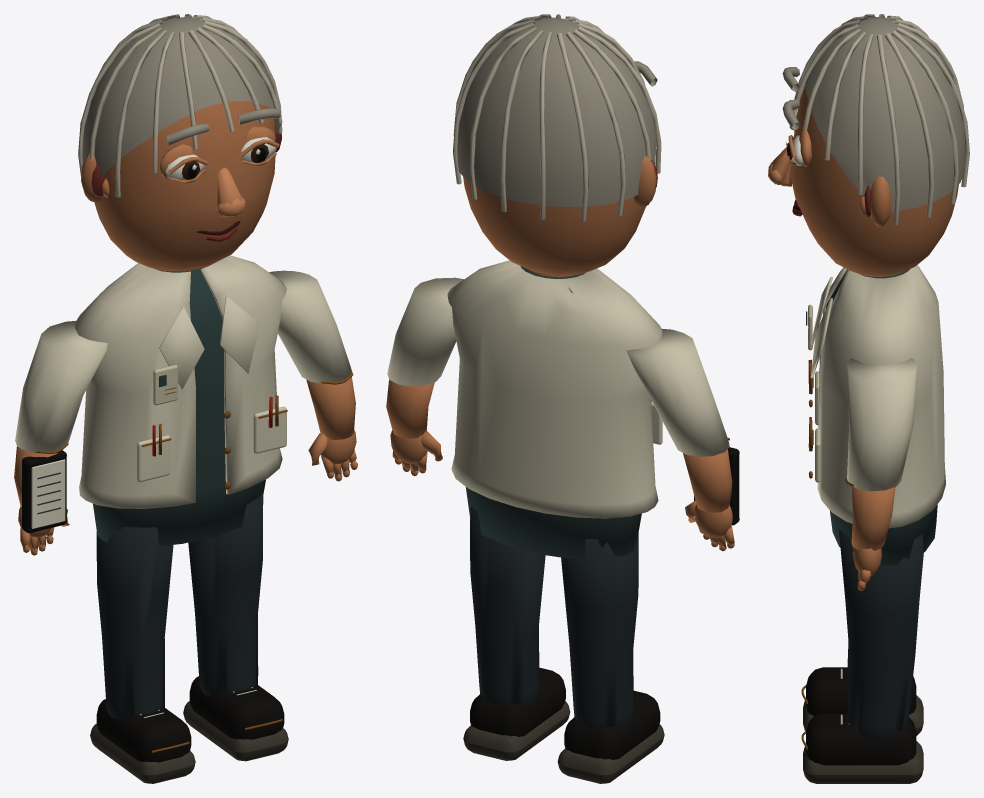
File: doctor-59.glb
3 renders of one model, left to right at view 1: azimuth 30°, elevation 25°; view 2: azimuth 150°, elevation 25°; view 3: azimuth 270°, elevation 25°, orthographic.
Parts seen in each view (by area): view 1: Body, Head, LegL, LegR, ArmL, ArmR; view 2: Body, Head, LegL, LegR, ArmL, ArmR; view 3: Head, Body, LegR, ArmR, LegL.
Boxes of the visible parts, x1=… form: Body: x1=74, y1=255, x2=287, y2=546; Head: x1=78, y1=14, x2=282, y2=271; LegL: x1=90, y1=527, x2=195, y2=783; LegR: x1=183, y1=491, x2=288, y2=761; ArmL: x1=14, y1=321, x2=107, y2=555; ArmR: x1=269, y1=270, x2=357, y2=481; Body: x1=447, y1=260, x2=662, y2=558; Head: x1=453, y1=14, x2=661, y2=277; LegL: x1=557, y1=533, x2=664, y2=783; LegR: x1=463, y1=506, x2=570, y2=760; ArmL: x1=626, y1=329, x2=739, y2=551; ArmR: x1=386, y1=277, x2=463, y2=476; Head: x1=768, y1=14, x2=969, y2=277; Body: x1=806, y1=265, x2=945, y2=565; LegR: x1=801, y1=529, x2=923, y2=783; ArmR: x1=845, y1=358, x2=916, y2=590; LegL: x1=801, y1=642, x2=923, y2=735.
Bounding box in the file's own units: 0.7347 × 1.5 × 0.3785.
